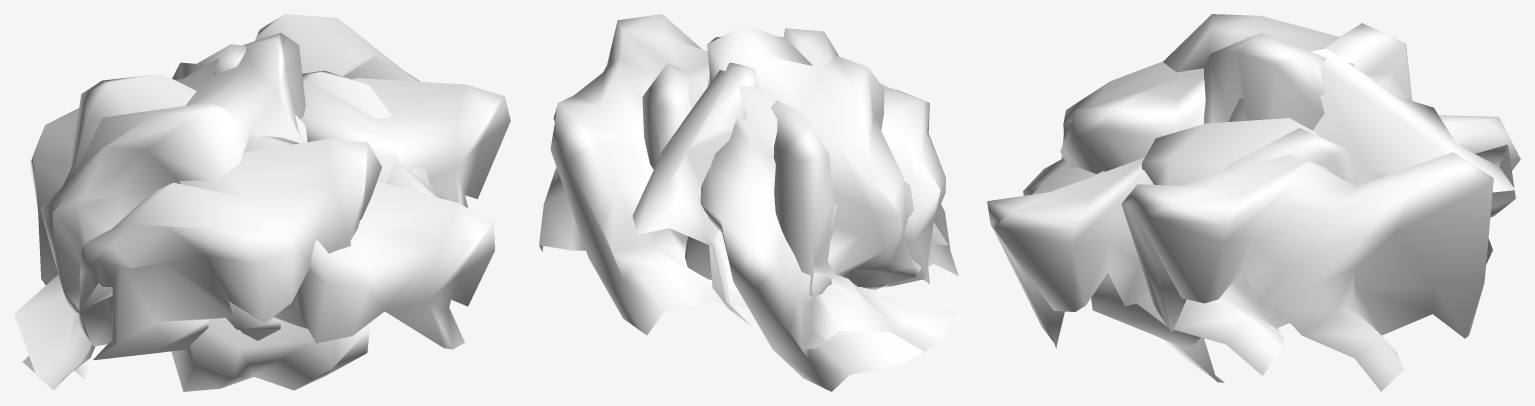
File: fbx_trash_2.fbx
3 renders of one model, left to right at view 1: azimuth 30°, elevation 25°; view 2: azimuth 150°, elevation 25°; view 3: azimuth 270°, elevation 25°, orthographic. The views are drawn at different scales.
Visible parts, largest first — view 1: fbx_trash_2; view 2: fbx_trash_2; view 3: fbx_trash_2.
Boxes of the visible parts, bbox=[...] form: fbx_trash_2: bbox=[14, 14, 510, 391]; fbx_trash_2: bbox=[539, 14, 958, 391]; fbx_trash_2: bbox=[987, 14, 1520, 391].
Bounding box in the file's own units: 0.2682 × 0.2132 × 0.2866.
Materials: 1 (1 with a texture image).
